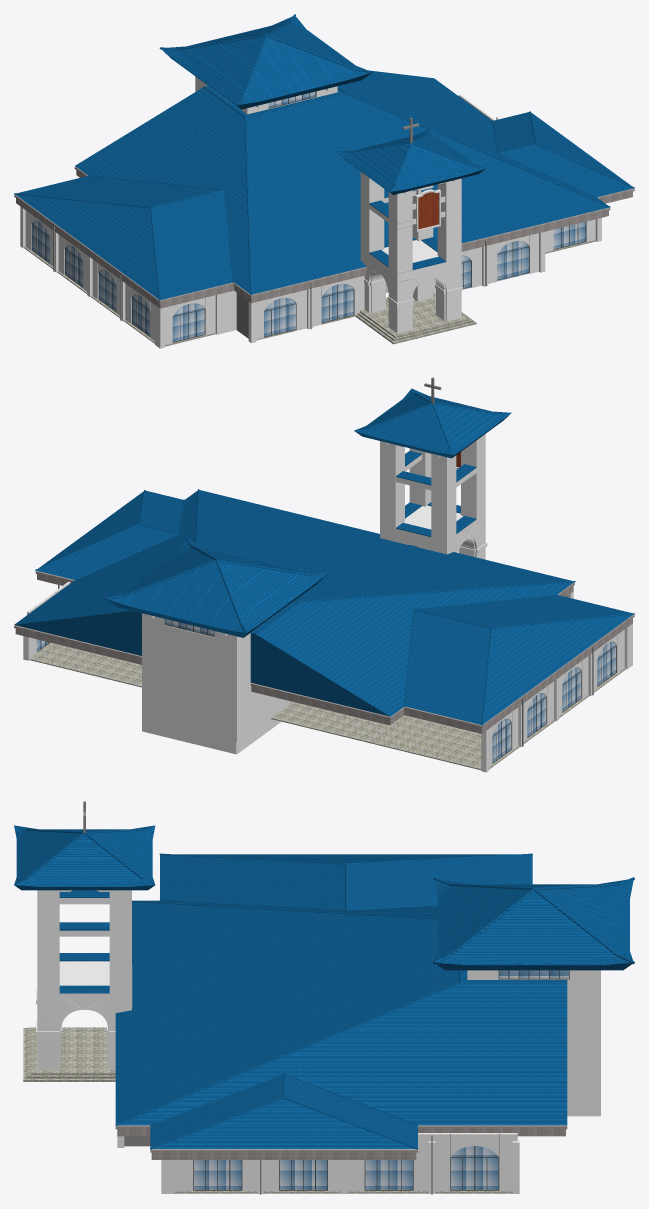
3 renders of one model, top to bottom at view 1: azimuth 30°, elevation 25°; view 2: azimuth 150°, elevation 25°; view 3: azimuth 270°, elevation 25°, orthographic. The views are drawn at different scales.
Visible parts, largest first — view 1: Untitled_recover_obj009, Rectangle001, Rectangle005, Shape001 (×2), Object002, Parish_obj001 (×2), Object001, Untitled_recover_obj026, Untitled_recover_obj012, Untitled_recover_obj013, Untitled_recover_obj017, Box006 (+12 smaller); view 2: Untitled_recover_obj009, Rectangle005, Rectangle001, Box012, Object002, Shape001 (×2), Object001, Untitled_recover_obj005, Untitled_recover_obj020, Untitled_recover_obj018, Untitled_recover_obj019, Untitled_recover_obj021 (+1 smaller); view 3: Untitled_recover_obj009, Rectangle005, Rectangle001, Shape001 (×3), Untitled_recover_obj029, Object002, Untitled_recover_obj028, Box006, Untitled_recover_obj030, Untitled_recover_obj031, Untitled_recover_obj005, Object001 (+5 smaller).
Part boxes in pixels (x1,y1,x2,y2): Untitled_recover_obj009: (15,70,633,299); Rectangle001: (336,128,485,333); Rectangle005: (161,16,370,114); Shape001 (×2): (14,14,634,300); Object002: (16,170,632,308); Parish_obj001 (×2): (155,288,312,348); Object001: (14,166,634,302); Untitled_recover_obj026: (488,233,538,283); Untitled_recover_obj012: (313,275,364,326); Untitled_recover_obj013: (256,290,306,340); Untitled_recover_obj017: (165,295,215,344); Box006: (360,293,468,338); Untitled_recover_obj009: (14,490,633,724); Rectangle005: (107,540,326,754); Rectangle001: (354,388,511,559); Box012: (29,642,626,770); Object002: (15,574,632,733); Shape001 (×2): (35,489,634,725); Object001: (14,570,634,728); Untitled_recover_obj005: (396,451,476,536); Untitled_recover_obj020: (594,630,624,689); Untitled_recover_obj018: (524,681,553,740); Untitled_recover_obj019: (489,707,518,766); Untitled_recover_obj021: (559,656,588,715); Untitled_recover_obj009: (115,854,567,1148); Rectangle005: (434,879,633,1116); Rectangle001: (14,825,155,1070); Shape001 (×3): (26,829,634,1149); Untitled_recover_obj029: (432,1133,517,1191); Object002: (117,1129,565,1159); Untitled_recover_obj028: (348,1133,431,1191); Box006: (30,1027,115,1074); Untitled_recover_obj030: (175,1160,256,1191); Untitled_recover_obj031: (264,1160,341,1191); Untitled_recover_obj005: (59,890,109,993); Object001: (115,1125,567,1152).
Size of the model in its own units: 49363 by 43882 by 20813.
10 materials, 7 textured.
